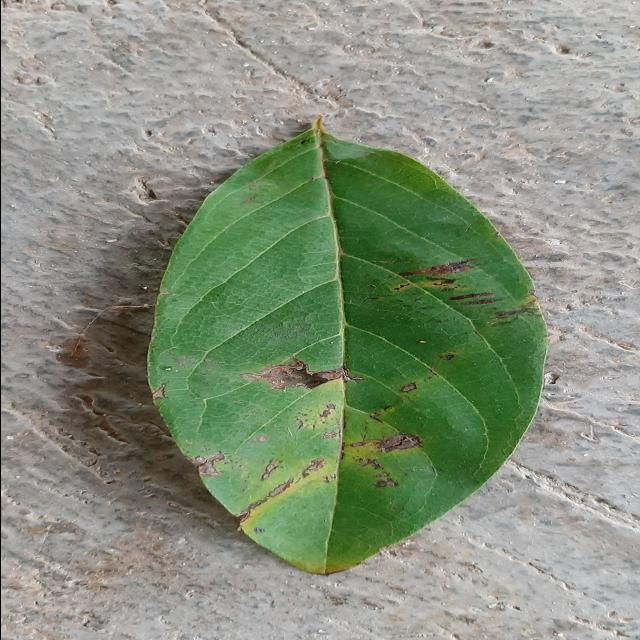leaf: (145, 114, 548, 575)
